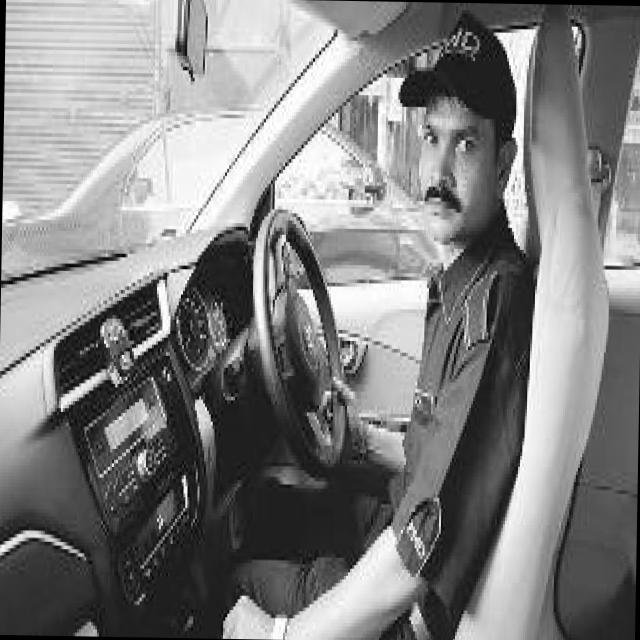Focused: (414, 96, 486, 249)
